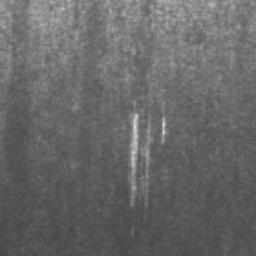Bright scratch: (129, 114, 153, 207), (162, 118, 166, 138)
